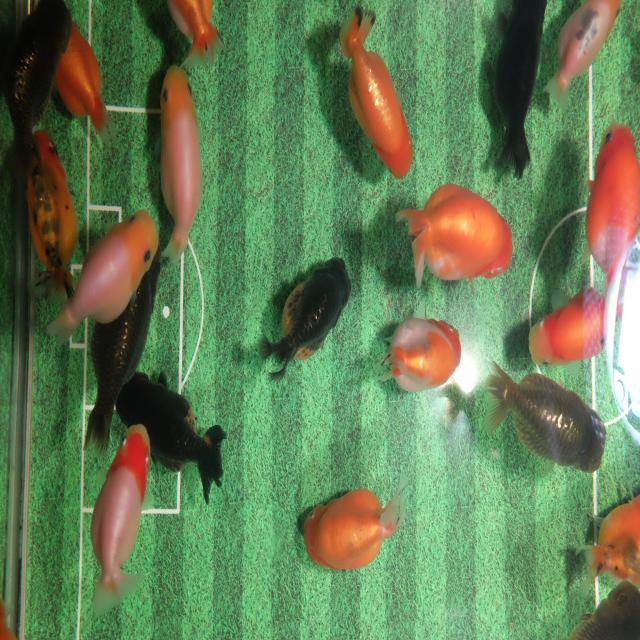Tilapia: (82, 247, 161, 452), (112, 368, 227, 508), (44, 208, 158, 348), (482, 358, 608, 477), (336, 5, 414, 182), (0, 0, 75, 180), (395, 180, 514, 290), (89, 422, 152, 623), (257, 254, 353, 385), (581, 120, 640, 324), (303, 470, 411, 576), (490, 0, 548, 180), (158, 62, 205, 267), (542, 0, 622, 117), (26, 128, 78, 308), (375, 301, 462, 397), (528, 284, 626, 369), (55, 21, 120, 149), (575, 493, 640, 598), (567, 578, 640, 640), (167, 0, 224, 70)
